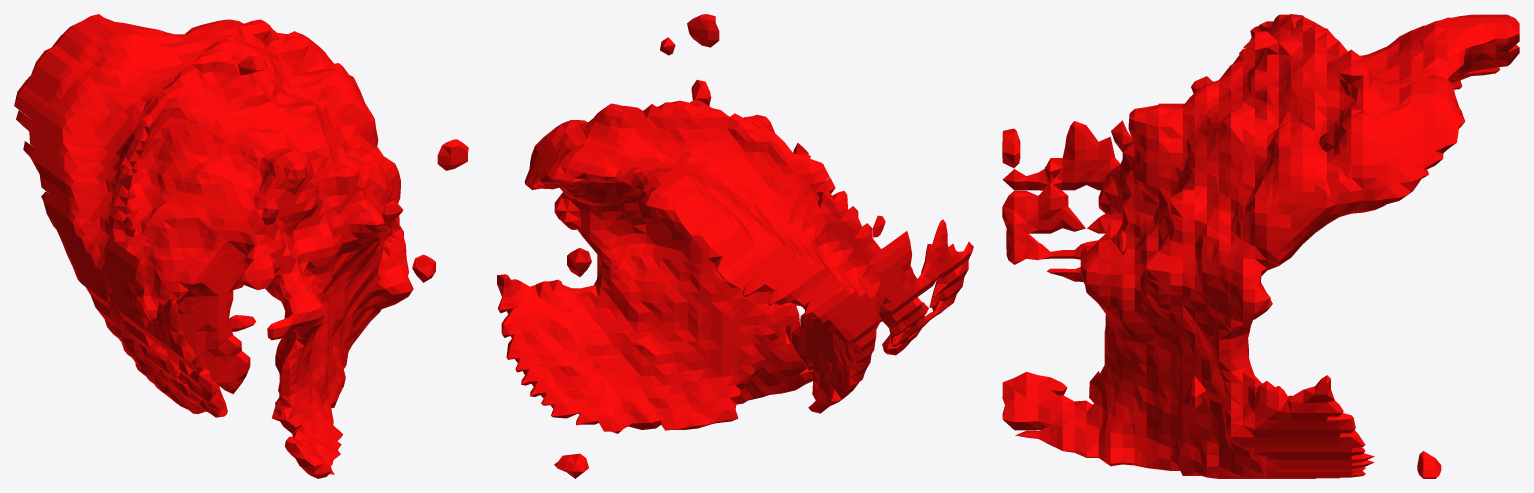
Rendered from B939XXXX-1_valve_8.obj.
The picture shows the model from 3 angles, left to right: view 1: azimuth 30°, elevation 25°; view 2: azimuth 150°, elevation 25°; view 3: azimuth 270°, elevation 25°; orthographic projection. The views are drawn at different scales.
Parts seen in each view (by area): view 1: 8_valve; view 2: 8_valve; view 3: 8_valve.
Boxes of the visible parts, x1,y1,x2,y2 form: 8_valve: [14, 14, 468, 478]; 8_valve: [497, 14, 973, 478]; 8_valve: [1002, 14, 1519, 478].
Size of the model in its own units: 76.95 by 76.97 by 85.95.
